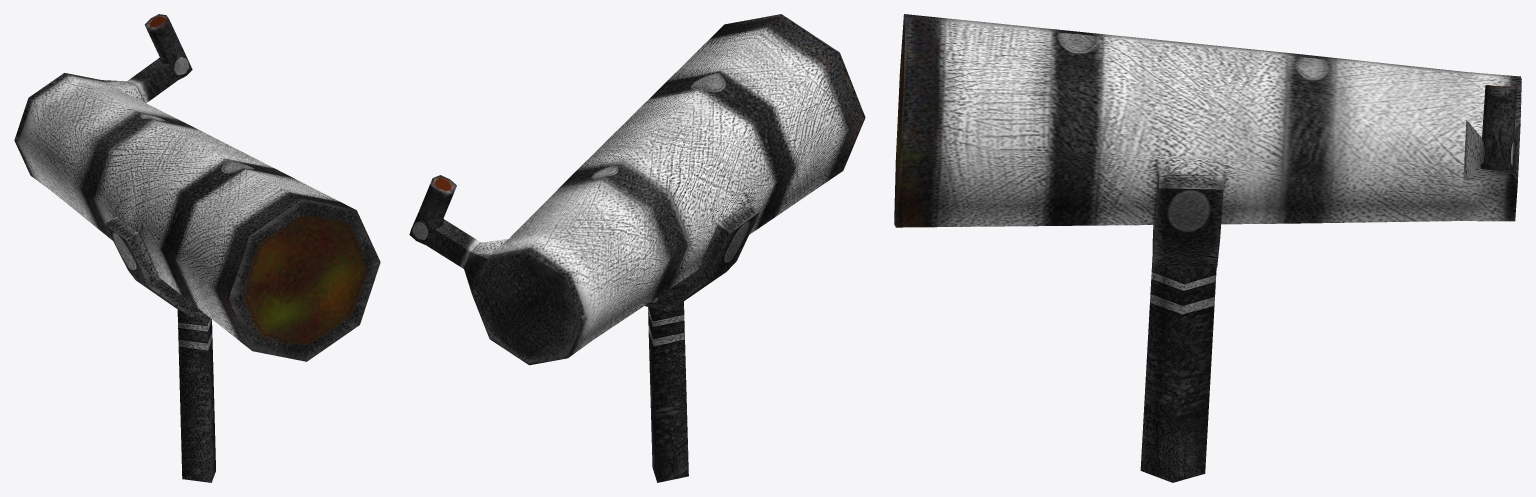
File: HEAD_CHIBI_TELESCOPE.fbx
The picture shows the model from 3 angles, left to right: view 1: azimuth 30°, elevation 25°; view 2: azimuth 150°, elevation 25°; view 3: azimuth 270°, elevation 25°; orthographic projection. The views are drawn at different scales.
Parts seen in each view (by area): view 1: HEAD_TELESCOPE; view 2: HEAD_TELESCOPE; view 3: HEAD_TELESCOPE.
Boxes of the visible parts, x1,y1,x2,y2 form: HEAD_TELESCOPE: (14, 14, 380, 482); HEAD_TELESCOPE: (409, 14, 865, 482); HEAD_TELESCOPE: (894, 14, 1521, 482).
Size of the model in its own units: 0.0255 by 0.0442 by 0.0551.
